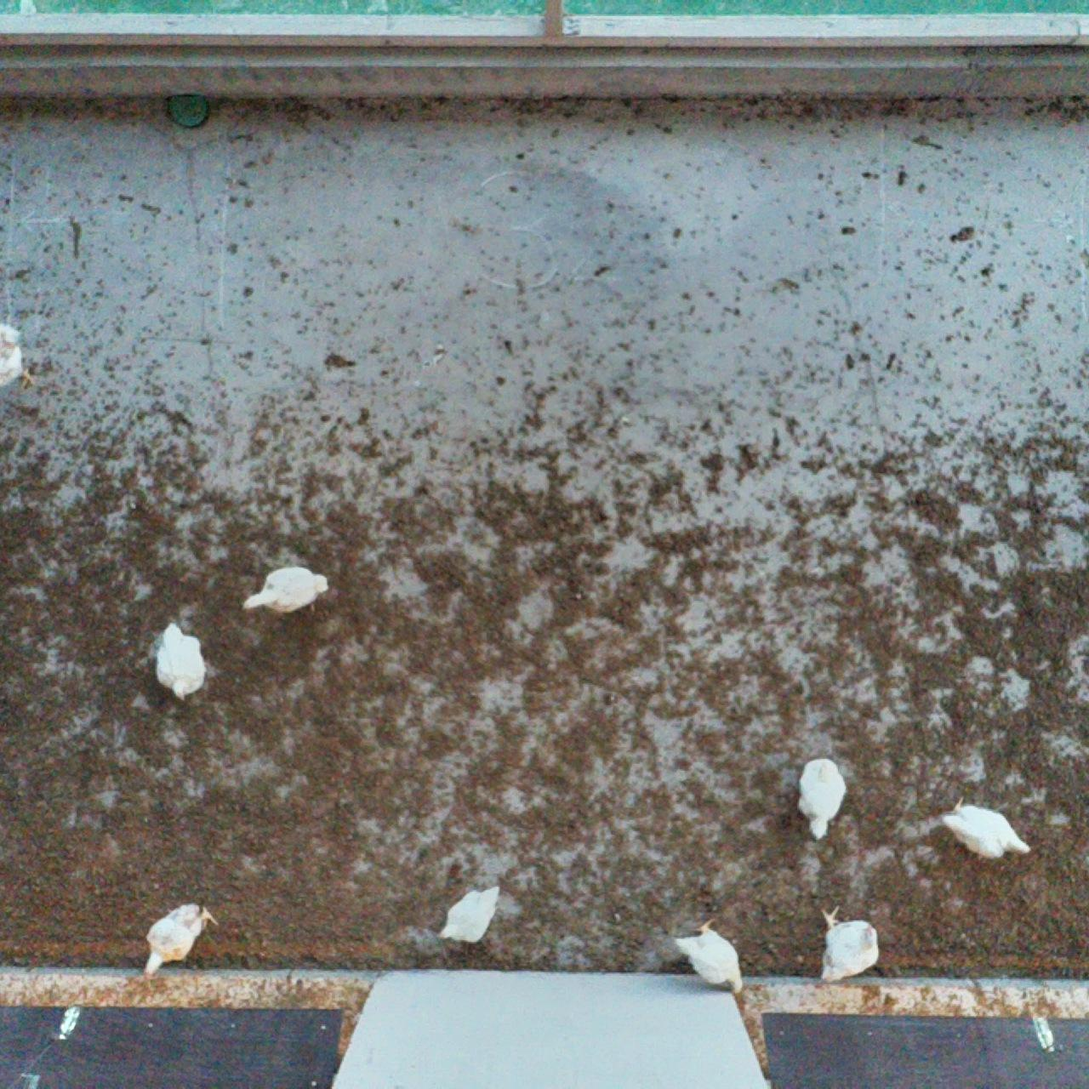chicken: (138, 900, 222, 984), (936, 793, 1032, 864), (671, 912, 746, 1002), (816, 902, 883, 988), (151, 616, 212, 707), (240, 561, 333, 619), (794, 754, 851, 844), (436, 881, 505, 945), (0, 316, 38, 395)
